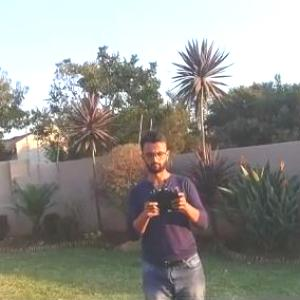follow: (122, 122, 219, 299)
